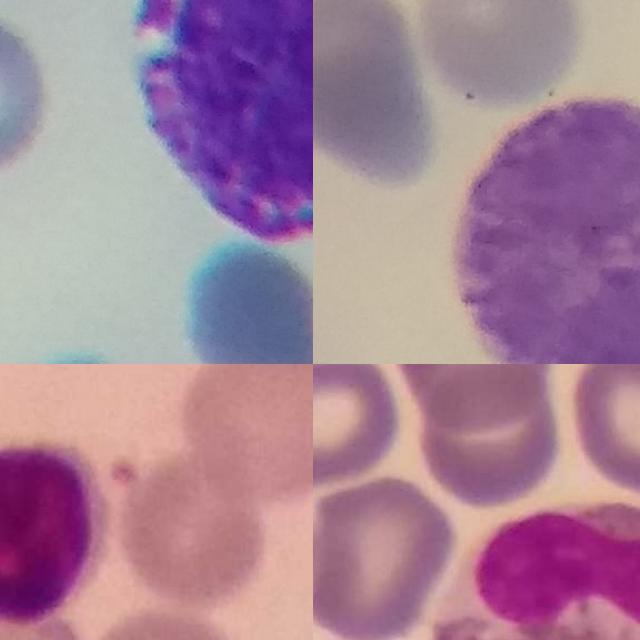Basophil: (453, 96, 640, 364), (136, 0, 313, 238)
Eosinophil: (432, 500, 640, 640)
Lymphocyte: (0, 434, 111, 629)
